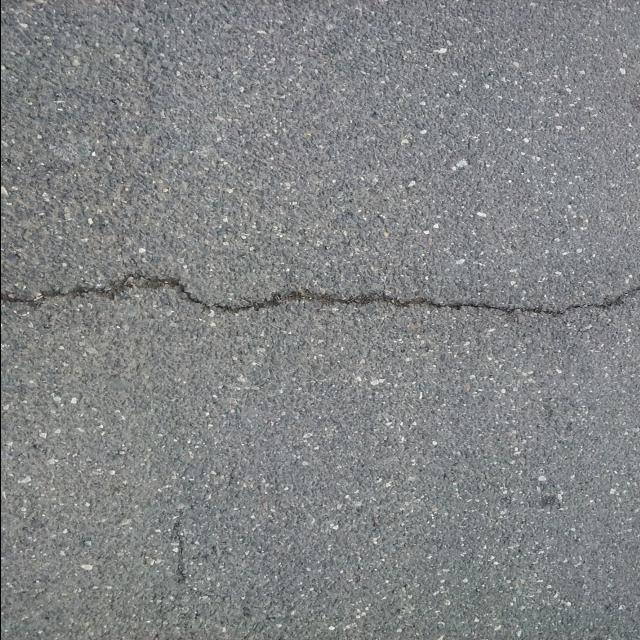Crack: (0, 273, 640, 317)
